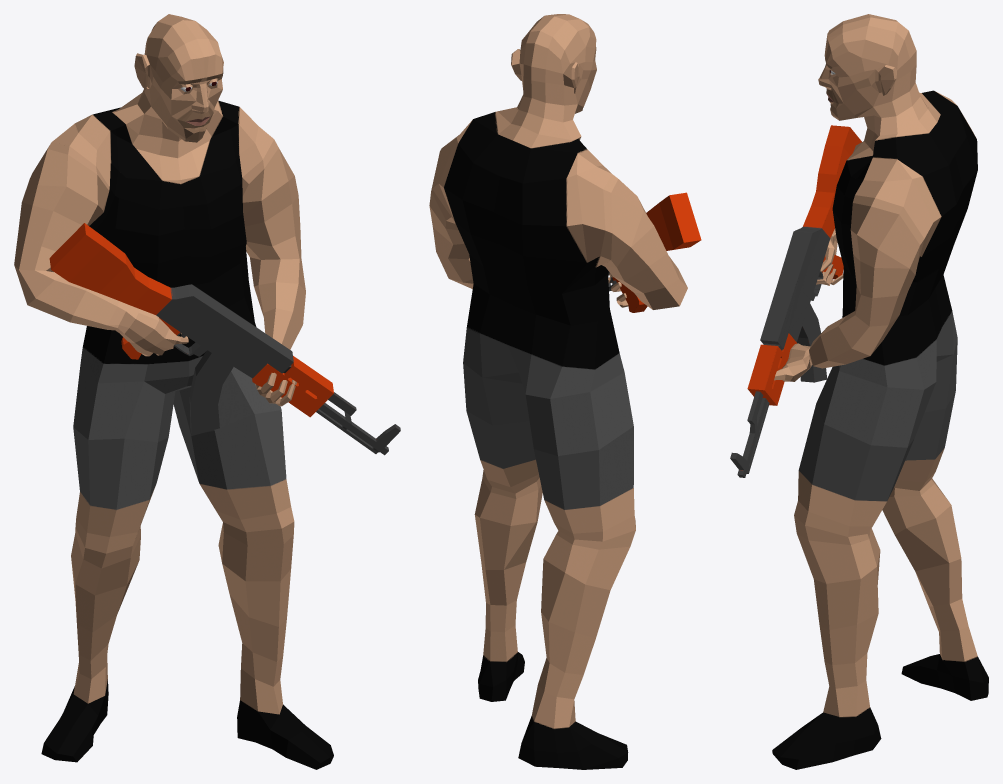
The model's file is PlayerIdle(206).obj.
3 views of the same model, side by side, from view 1: azimuth 30°, elevation 25°; view 2: azimuth 150°, elevation 25°; view 3: azimuth 270°, elevation 25° (orthographic). The views are drawn at different scales.
Parts seen in each view (by area): view 1: Plane002, Object001; view 2: Plane002, Object001; view 3: Plane002, Object001.
Boxes of the visible parts, left/top/right/bottom form: Plane002: left=14, top=14, right=333, bottom=769; Object001: left=49, top=223, right=400, bottom=455; Plane002: left=429, top=14, right=687, bottom=769; Object001: left=608, top=192, right=701, bottom=312; Plane002: left=772, top=14, right=988, bottom=769; Object001: left=730, top=125, right=861, bottom=477.
Bounding box in the file's own units: 753 × 1797 × 602.
